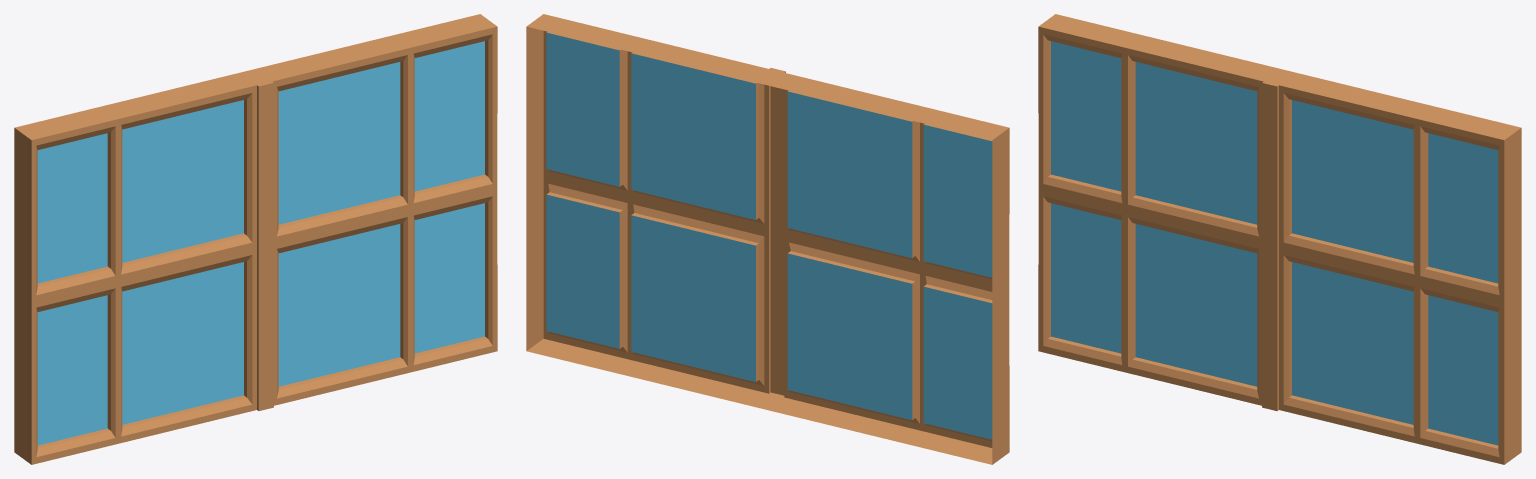
File: Window4Double.fbx
The picture shows the model from 3 angles, left to right: view 1: azimuth 30°, elevation 25°; view 2: azimuth 150°, elevation 25°; view 3: azimuth 330°, elevation 25°; orthographic projection.
Visible parts, largest first — view 1: Window4Double; view 2: Window4Double; view 3: Window4Double.
Part boxes in pixels (x1,y1,x2,y2): Window4Double: [14, 14, 497, 464]; Window4Double: [526, 14, 1009, 464]; Window4Double: [1038, 14, 1521, 464].
Bounding box in the file's own units: 3.3 × 0.232 × 2.2.
